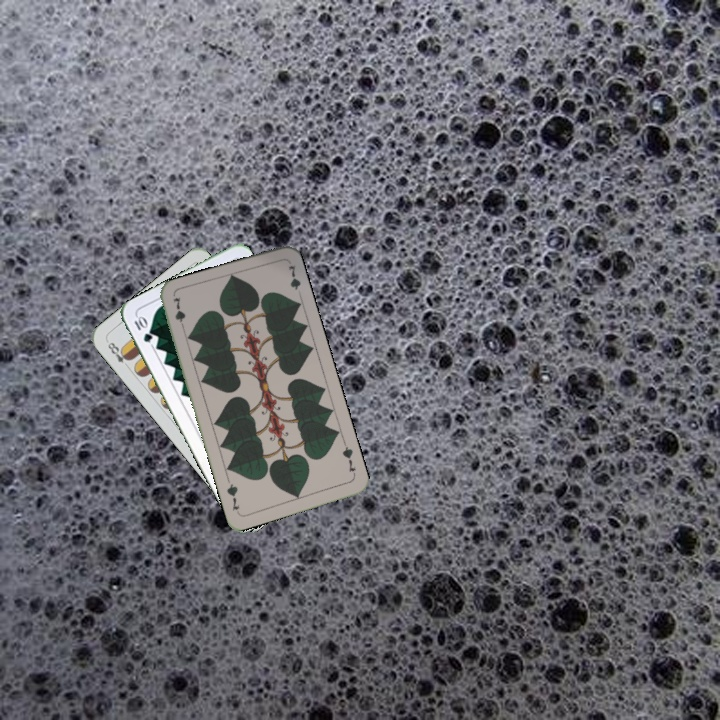E8: (103, 337, 133, 372)
G10: (130, 312, 155, 345)
G7: (338, 439, 359, 479), (169, 293, 188, 334)
